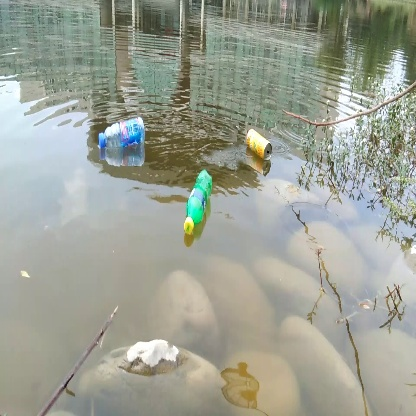bottle: (183, 169, 213, 234), (96, 115, 149, 151), (244, 126, 275, 162)
